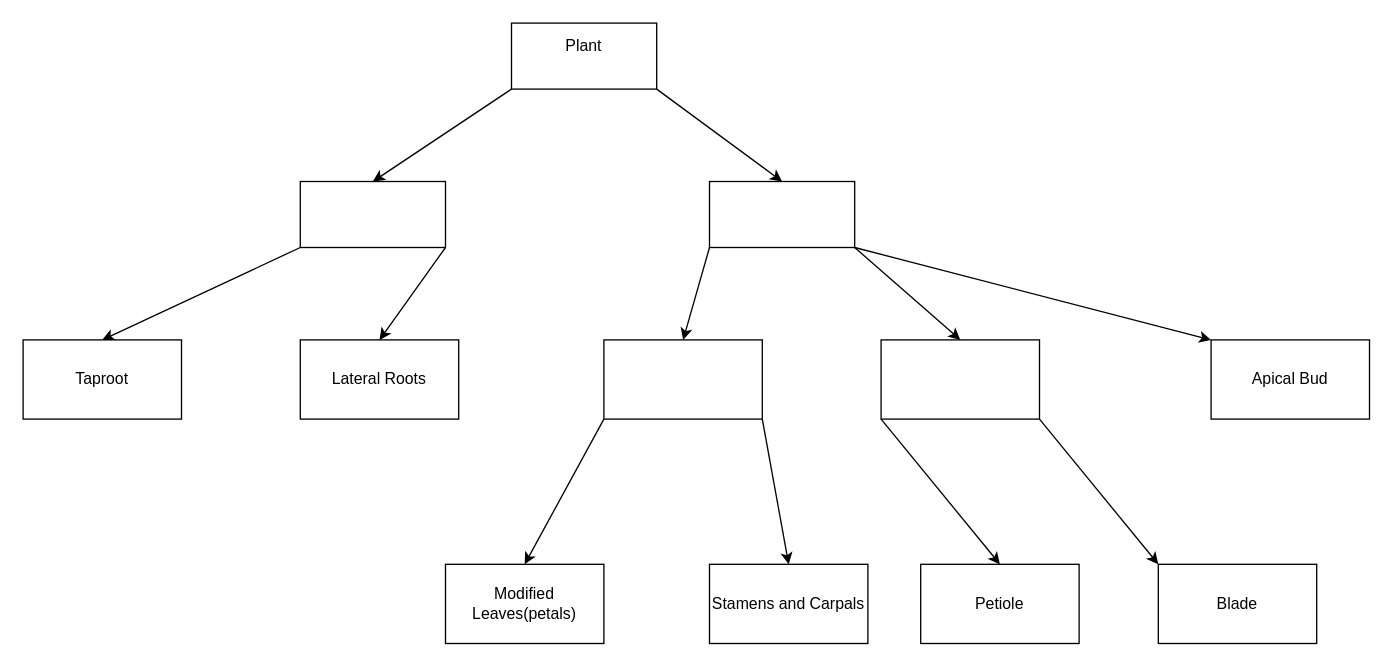
Image size: 1393x667. Some labels were removed from this diagram. The box of each missing label's shape, as (x1, y1, x2, y2) in pixels:
Flower: (603, 339, 762, 419)
Leaf: (880, 339, 1040, 419)
Root System: (299, 180, 446, 248)
Shoot System: (708, 180, 855, 248)
